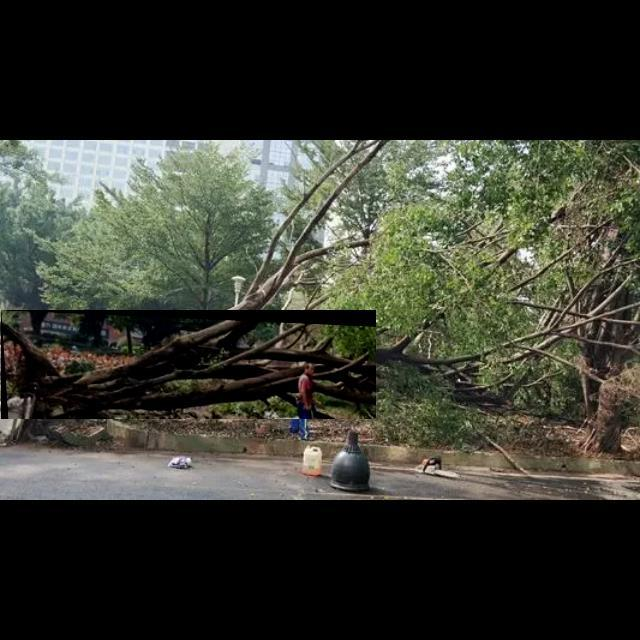fallen_tree: (1, 310, 377, 420)
